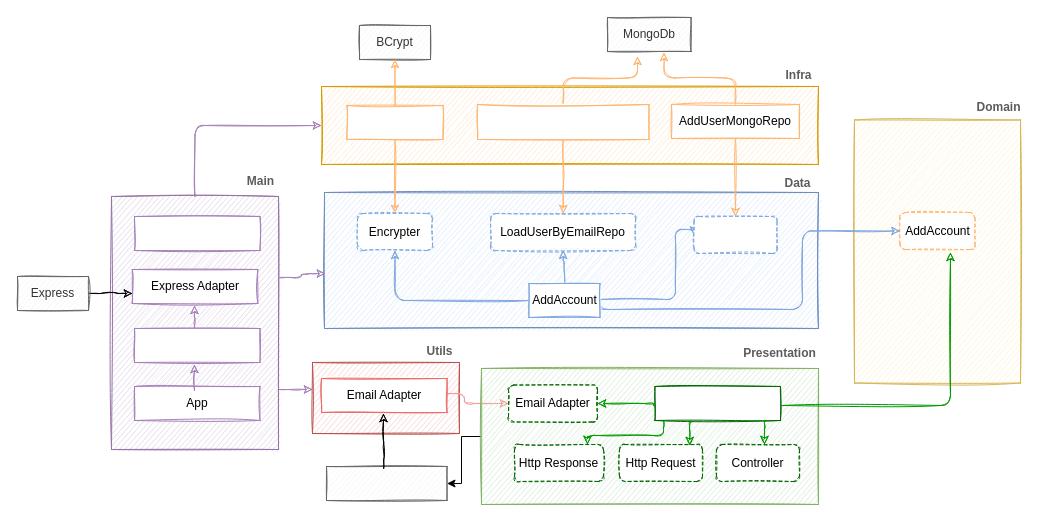
Some shapes in this 1043 by 522 pixel diagram are drawn without their labels. The shapes that lost their labels are listed below. From the top down, each one's centre as x and y in pixels, then its label:
At point 394,122: "BCryptAdapter".
At point 562,122: "LoadUserByEmailMongoRepo".
At point 197,233: "Sigup Composer".
At point 735,235: "AddUserRepo".
At point 197,345: "SignUp Router".
At point 717,403: "SignUp Controller".
At point 386,483: "Validator".
